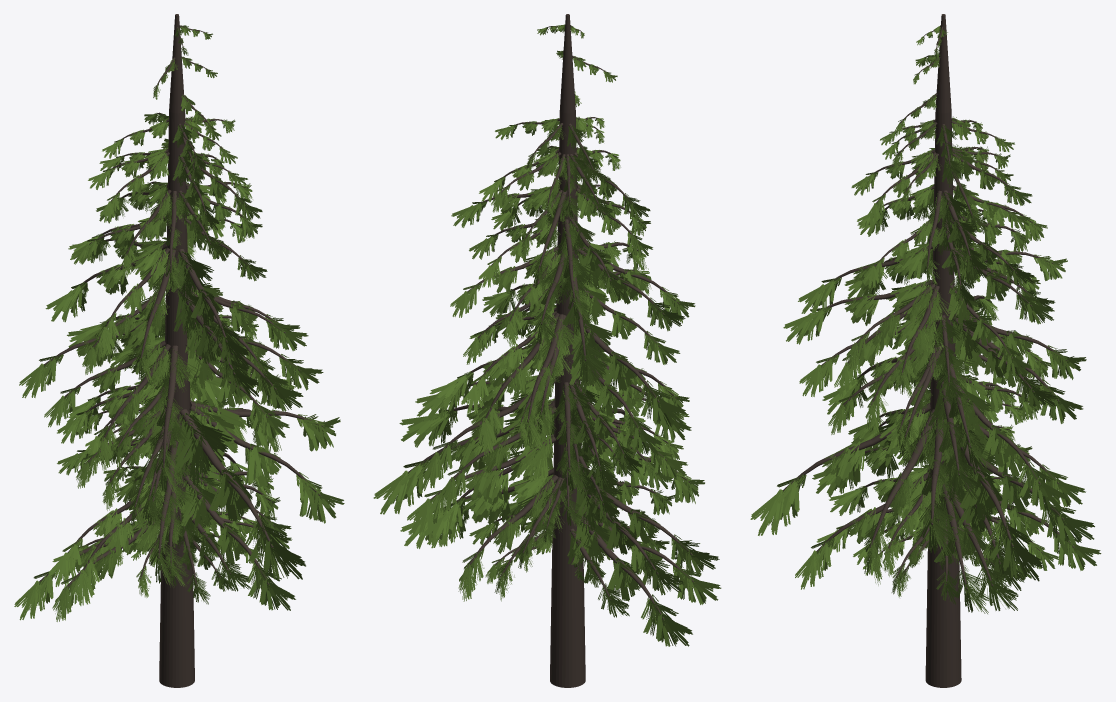
File: Arbol1.fbx
3 views of the same model, side by side, from view 1: azimuth 30°, elevation 25°; view 2: azimuth 150°, elevation 25°; view 3: azimuth 270°, elevation 25° (orthographic).
Visible parts, largest first — view 1: A1.010, A1.010|H1.003|Dupli|75, A1.010|H1.003|Dupli|77, A1.010|H1.003|Dupli|93, A1.010|H1.003|Dupli|67, A1.010|H1.003|Dupli|68, A1.010|H1.003|Dupli|61, A1.010|H1.003|Dupli|99, A1.010|H1.003|Dupli|22, A1.010|H1.003|Dupli|58, A1.010|H1.003|Dupli|79, A1.010|H1.003|Dupli|36 (+50 smaller); view 2: A1.010, A1.010|H1.003|Dupli|31, A1.010|H1.003|Dupli|36, A1.010|H1.003|Dupli|115, A1.010|H1.003|Dupli|111, A1.010|H1.003|Dupli|32, A1.010|H1.003|Dupli|125, A1.010|H1.003|Dupli|41, A1.010|H1.003|Dupli|34, A1.010|H1.003|Dupli|22, A1.010|H1.003|Dupli|123, A1.010|H1.003|Dupli|126 (+58 smaller); view 3: A1.010, A1.010|H1.003|Dupli|75, A1.010|H1.003|Dupli|111, A1.010|H1.003|Dupli|116, A1.010|H1.003|Dupli|93, A1.010|H1.003|Dupli|99, A1.010|H1.003|Dupli|115, A1.010|H1.003|Dupli|77, A1.010|H1.003|Dupli|68, A1.010|H1.003|Dupli|107, A1.010|H1.003|Dupli|104, A1.010|H1.003|Dupli|117 (+50 smaller).
Part boxes in pixels (left/top/right/bottom): A1.010: left=159, top=14, right=194, bottom=687; A1.010|H1.003|Dupli|75: left=173, top=409, right=305, bottom=579; A1.010|H1.003|Dupli|77: left=180, top=476, right=295, bottom=610; A1.010|H1.003|Dupli|93: left=189, top=404, right=344, bottom=523; A1.010|H1.003|Dupli|67: left=171, top=249, right=248, bottom=365; A1.010|H1.003|Dupli|68: left=173, top=286, right=258, bottom=397; A1.010|H1.003|Dupli|61: left=153, top=345, right=201, bottom=495; A1.010|H1.003|Dupli|99: left=190, top=399, right=340, bottom=451; A1.010|H1.003|Dupli|22: left=45, top=243, right=166, bottom=322; A1.010|H1.003|Dupli|58: left=148, top=441, right=199, bottom=587; A1.010|H1.003|Dupli|79: left=185, top=343, right=289, bottom=438; A1.010|H1.003|Dupli|36: left=19, top=310, right=166, bottom=398; A1.010: left=550, top=14, right=585, bottom=687; A1.010|H1.003|Dupli|31: left=572, top=512, right=692, bottom=646; A1.010|H1.003|Dupli|36: left=572, top=316, right=686, bottom=427; A1.010|H1.003|Dupli|115: left=407, top=436, right=556, bottom=535; A1.010|H1.003|Dupli|111: left=373, top=402, right=554, bottom=514; A1.010|H1.003|Dupli|32: left=574, top=480, right=683, bottom=595; A1.010|H1.003|Dupli|125: left=458, top=475, right=560, bottom=601; A1.010|H1.003|Dupli|41: left=591, top=480, right=719, bottom=574; A1.010|H1.003|Dupli|34: left=569, top=351, right=662, bottom=455; A1.010|H1.003|Dupli|22: left=556, top=253, right=605, bottom=387; A1.010|H1.003|Dupli|123: left=437, top=406, right=557, bottom=512; A1.010|H1.003|Dupli|126: left=478, top=312, right=568, bottom=456; A1.010: left=925, top=14, right=961, bottom=687; A1.010|H1.003|Dupli|75: left=750, top=403, right=930, bottom=535; A1.010|H1.003|Dupli|111: left=931, top=418, right=1042, bottom=581; A1.010|H1.003|Dupli|116: left=953, top=383, right=1067, bottom=511; A1.010|H1.003|Dupli|93: left=864, top=409, right=947, bottom=585; A1.010|H1.003|Dupli|99: left=919, top=411, right=972, bottom=556; A1.010|H1.003|Dupli|115: left=962, top=453, right=1094, bottom=544; A1.010|H1.003|Dupli|77: left=795, top=472, right=929, bottom=589; A1.010|H1.003|Dupli|68: left=783, top=279, right=932, bottom=344; A1.010|H1.003|Dupli|107: left=938, top=485, right=1018, bottom=610; A1.010|H1.003|Dupli|104: left=928, top=382, right=981, bottom=500; A1.010|H1.003|Dupli|117: left=950, top=315, right=1057, bottom=410.
Size of what is drawn, in the model's own units: 3735 by 7655 by 3665.
